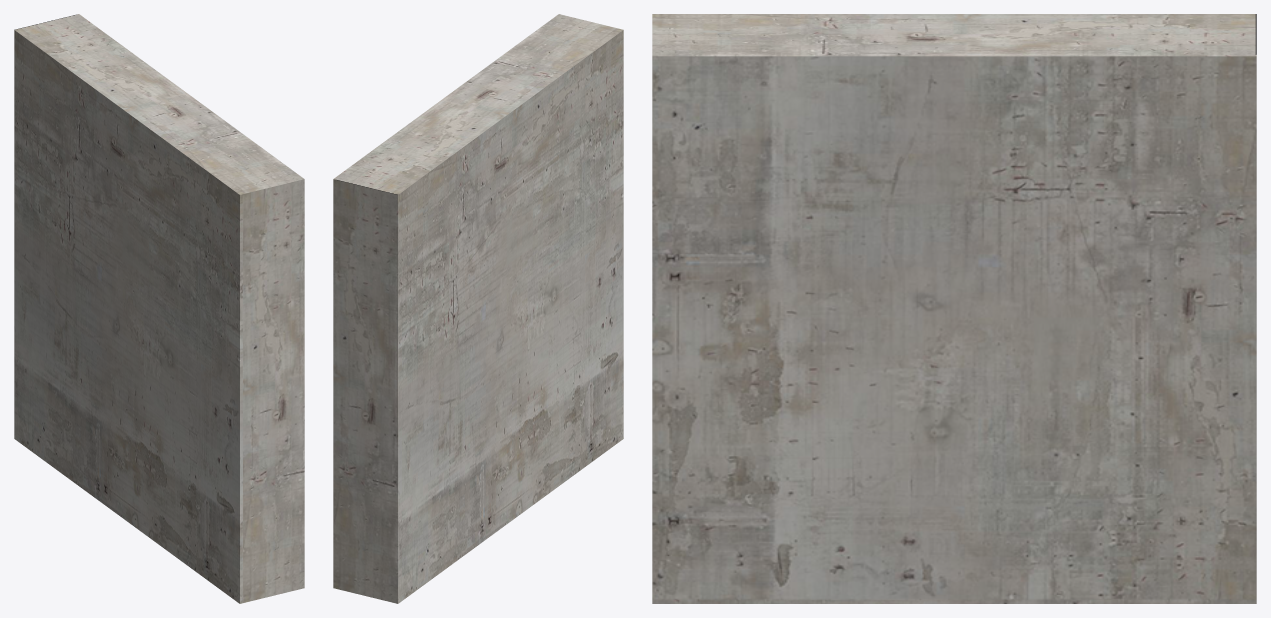
File: Undamaged_Wall.fbx
3 renders of one model, left to right at view 1: azimuth 30°, elevation 25°; view 2: azimuth 150°, elevation 25°; view 3: azimuth 270°, elevation 25°, orthographic. The views are drawn at different scales.
Visible parts, largest first — view 1: Cube; view 2: Cube; view 3: Cube.
Part boxes in pixels (x1,y1,x2,y2): Cube: (14, 14, 304, 603); Cube: (333, 14, 623, 603); Cube: (652, 14, 1256, 603).
Size of the model in its own units: 1.21 by 7.28 by 7.28.
